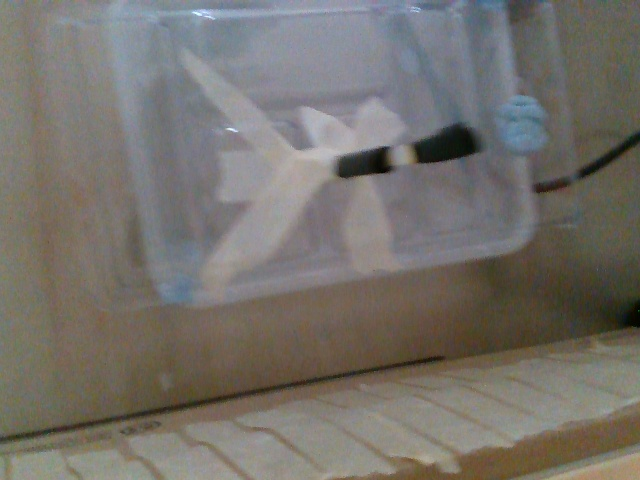test_strip: (388, 118, 481, 172)
